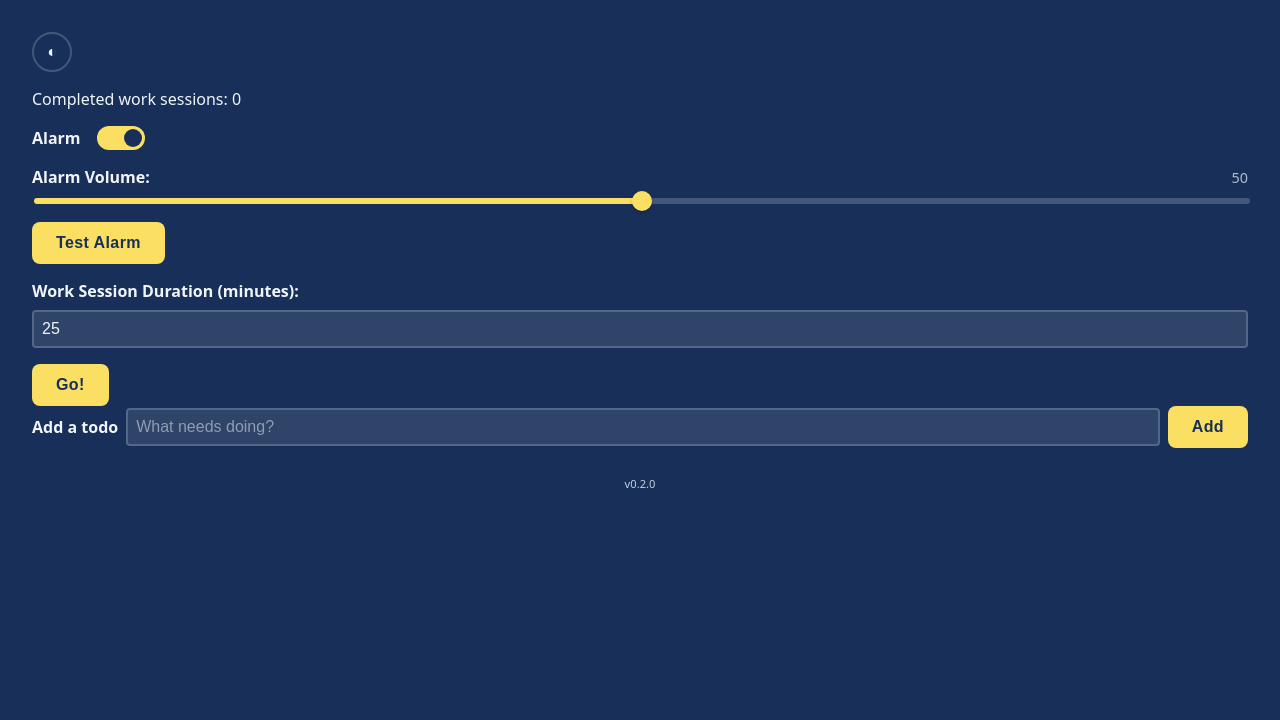
Scenario: App › adds a todo on the config screen (AC1)
Type "buy milk" into the field labelled "Add a todo".
click(643, 427); type("buy milk")  # box [126,408,1160,446]
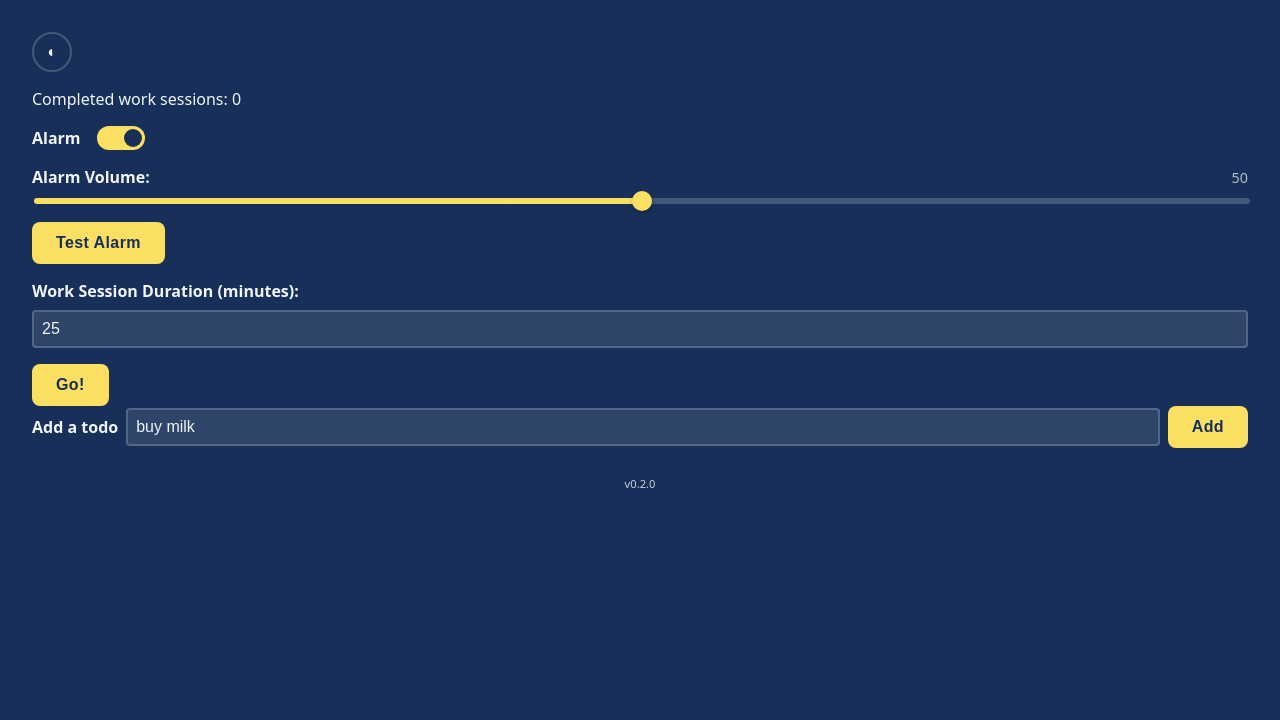
Submit the form labelled "Add a todo Add", box [32,406,1248,448]
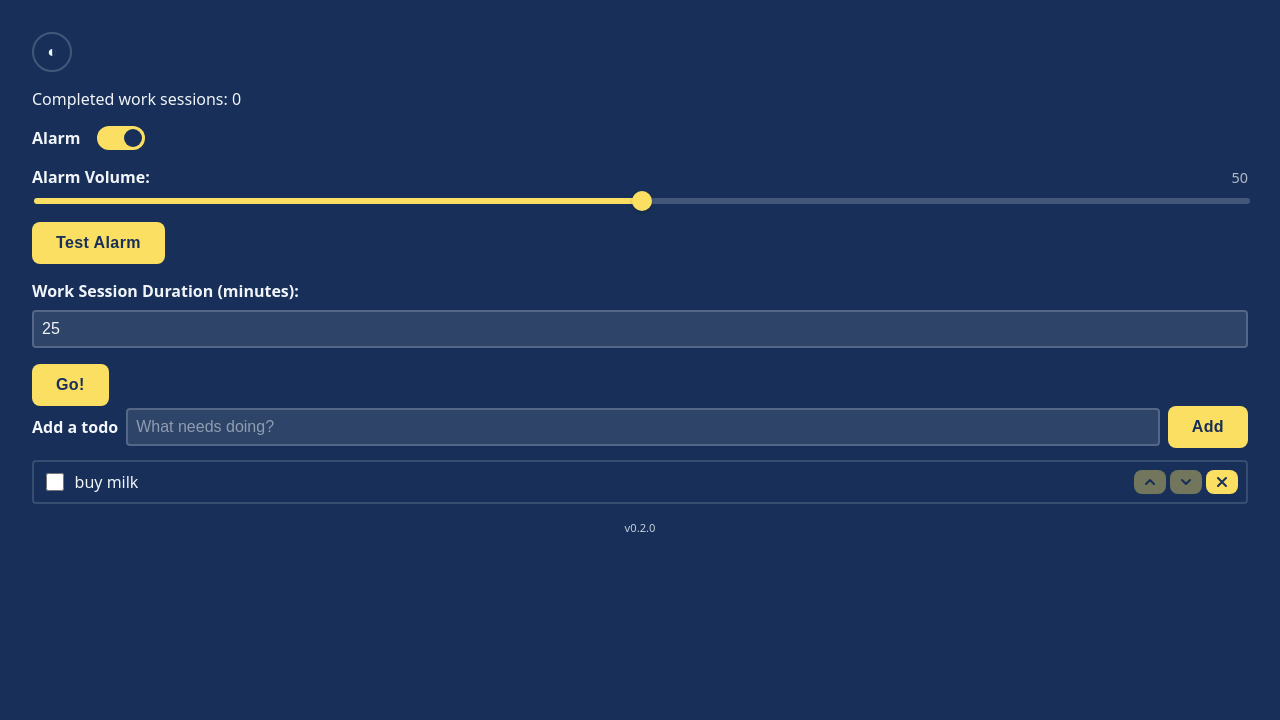
Expected: the checkbox labelled "buy milk" is shown, [46,473,64,491]
